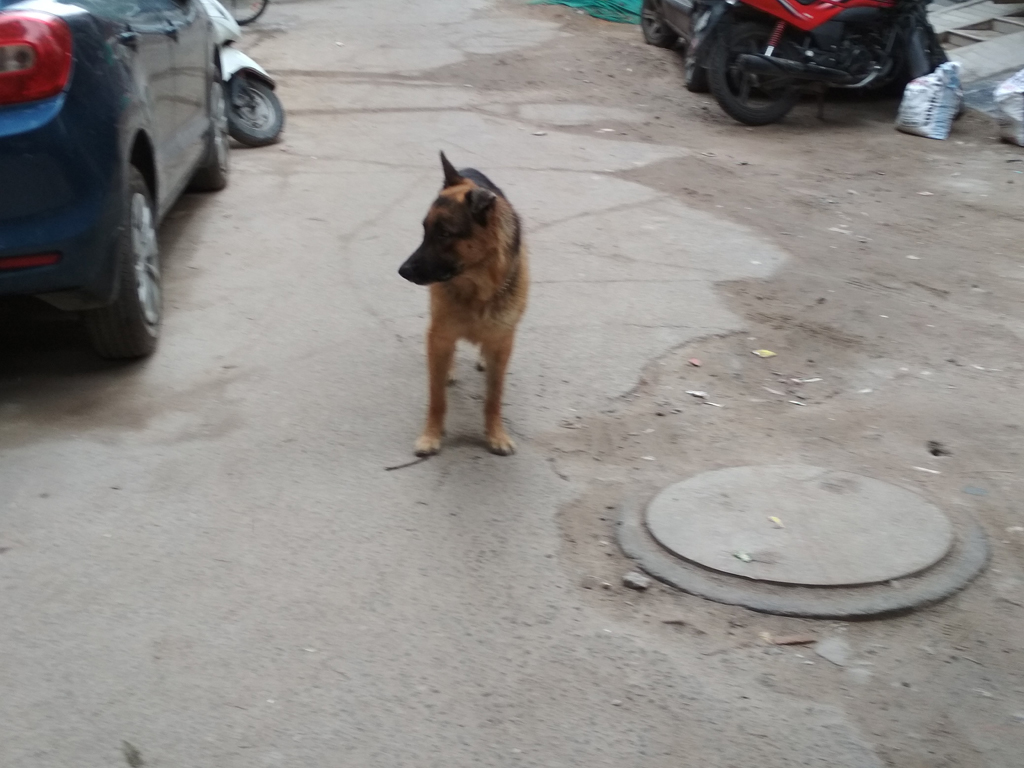dog: (398, 149, 532, 460)
